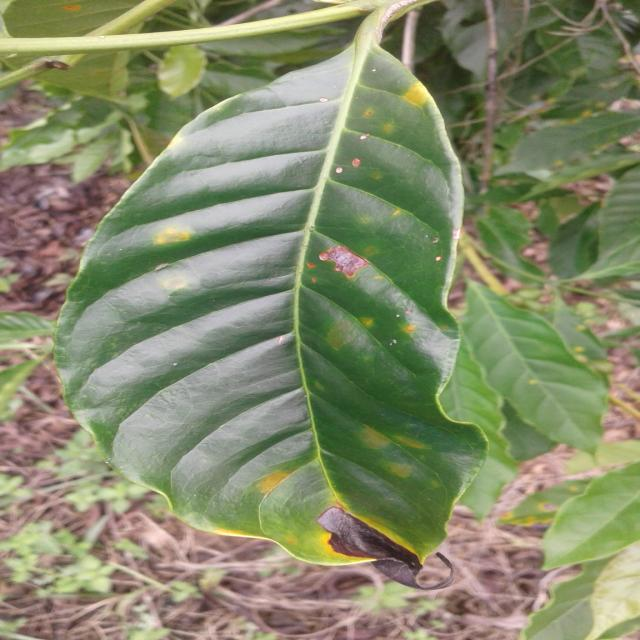Enfermedad-Roya: (53, 12, 586, 586)
